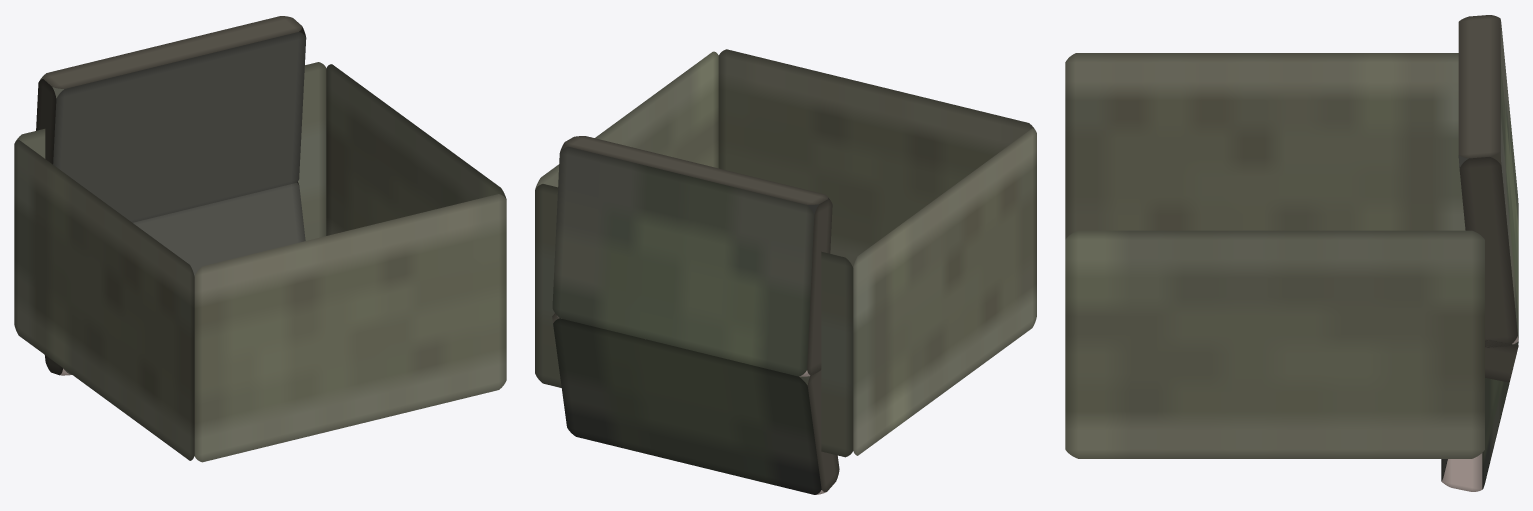
The model's file is osprey_p_r.obj.
The picture shows the model from 3 angles, left to right: view 1: azimuth 30°, elevation 25°; view 2: azimuth 150°, elevation 25°; view 3: azimuth 270°, elevation 25°; orthographic projection. The views are drawn at different scales.
Visible parts, largest first — view 1: mesh; view 2: mesh; view 3: mesh.
Boxes of the visible parts, box(x1,y1,x2,y2) form: mesh: box(14, 16, 506, 462); mesh: box(535, 49, 1036, 494); mesh: box(1065, 15, 1518, 491).
Bounding box in the file's own units: 0.3125 × 0.2777 × 0.3375.
